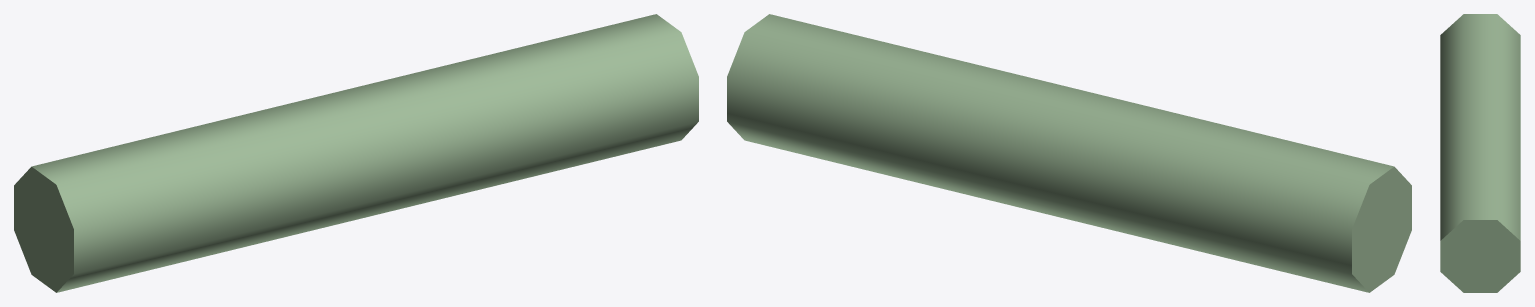
The model's file is 0325_Green_Chalk.glb.
3 views of the same model, side by side, from view 1: azimuth 30°, elevation 25°; view 2: azimuth 150°, elevation 25°; view 3: azimuth 270°, elevation 25° (orthographic). The views are drawn at different scales.
Parts seen in each view (by area): view 1: part_0; view 2: part_0; view 3: part_0.
Boxes of the visible parts, <box> form: part_0: <box>14,14,698,292</box>; part_0: <box>727,14,1411,292</box>; part_0: <box>1440,14,1520,292</box>.
Bounding box in the file's own units: 0.065 × 0.0108 × 0.0108.
1 material, 1 textured.
